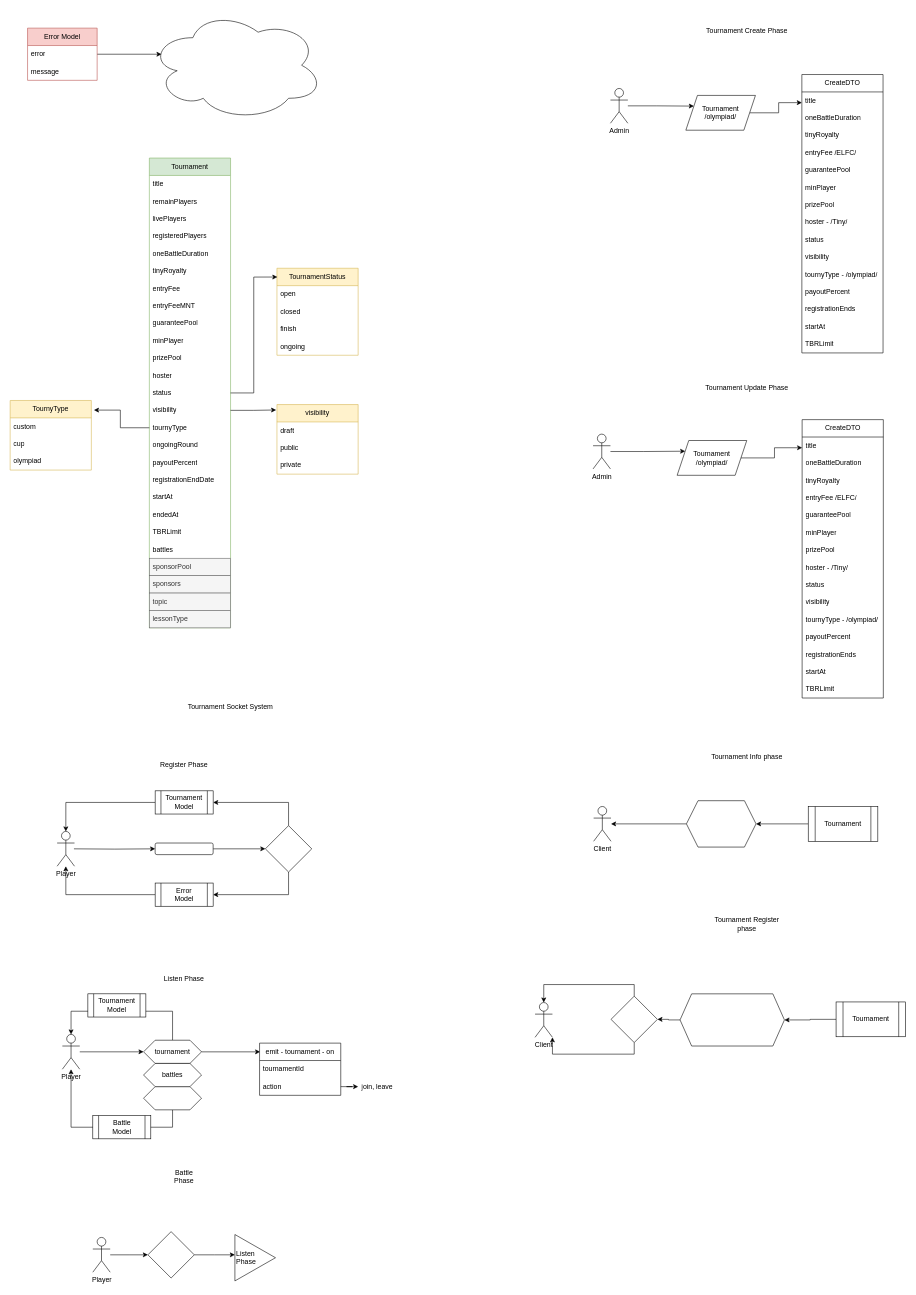
Some shapes in this 916 by 1295 pixel diagram are drawn without their labels. Each missing label, with the centre of its shape:
/v1/tournament/: [721,823]
/v1/tournament/:id/regsiter: [731,1019]
Battle Finish: [170,1254]
error: 101 message: "Registration has expired": [236,65]
isSuccess: [633,1019]
match: [172,1098]
Register: [184,848]
Success or Not: [288,848]
